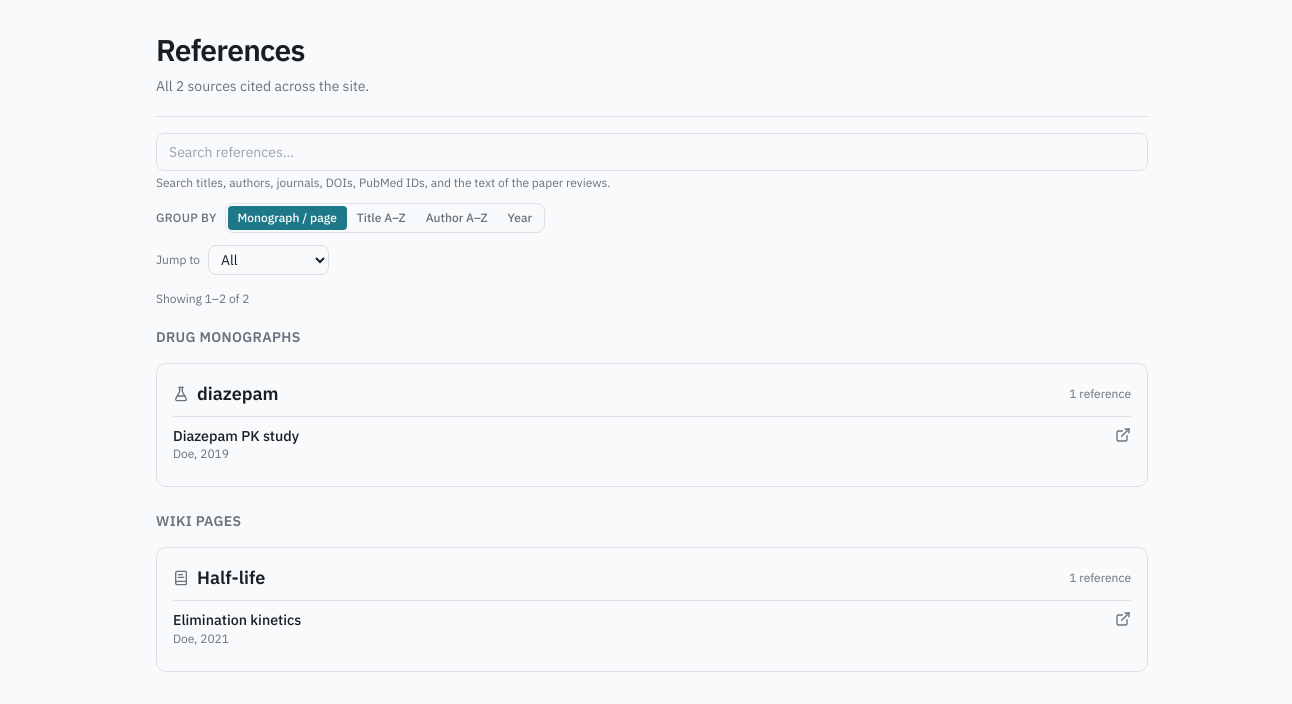
it: ReferencesPage › sends the typed query to the server and renders what comes back
The image size is (1292, 704).
Expected: the heading "Drug monographs" is shown, [156,328,301,346]
In the search field with placeholder "Search references…": (652, 152) [156,133,1148,171], type "doi:10.1093/jat/bkaa107"
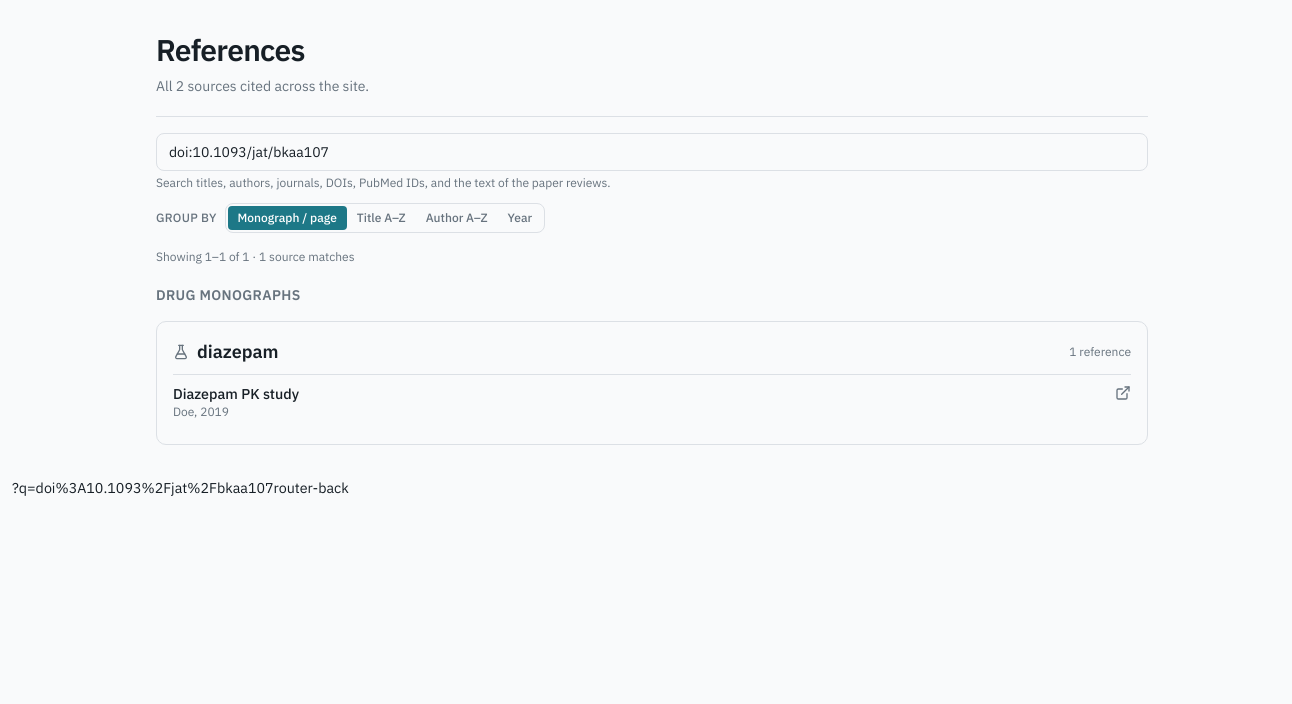
Expected: the link "Diazepam PK study" is shown, [173,384,299,403]
Result: the link "Elimination kinetics" is gone
Result: the text "Showing 1–1 of 1 · 1 source matches" is shown at [156,249,355,264]
